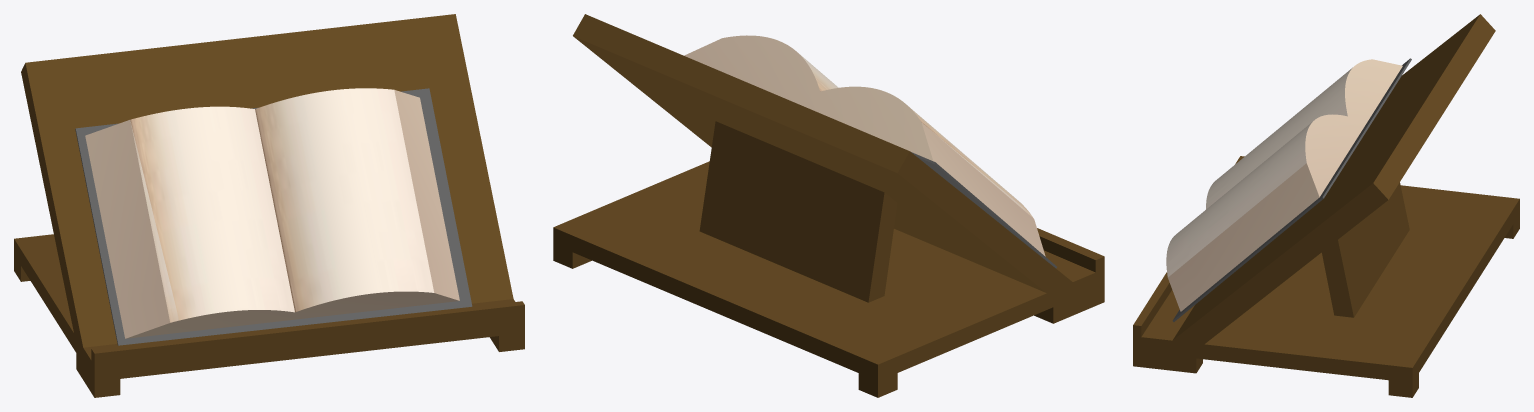
File: libro.fbx
3 renders of one model, left to right at view 1: azimuth 30°, elevation 25°; view 2: azimuth 150°, elevation 25°; view 3: azimuth 270°, elevation 25°, orthographic. The views are drawn at different scales.
Visible parts, largest first — view 1: pagine_libro, scrittoio, copertina libro; view 2: scrittoio, pagine_libro, copertina libro; view 3: scrittoio, pagine_libro, copertina libro.
Boxes of the visible parts, bbox=[...] form: pagine_libro: bbox=[85, 88, 459, 338]; scrittoio: bbox=[14, 14, 524, 397]; copertina libro: bbox=[75, 88, 472, 345]; scrittoio: bbox=[553, 14, 1104, 397]; pagine_libro: bbox=[684, 35, 1045, 256]; copertina libro: bbox=[911, 152, 1056, 268]; scrittoio: bbox=[1133, 14, 1519, 397]; pagine_libro: bbox=[1166, 59, 1402, 311]; copertina libro: bbox=[1172, 58, 1411, 321].
Bounding box in the file's own units: 307 × 150 × 250.
